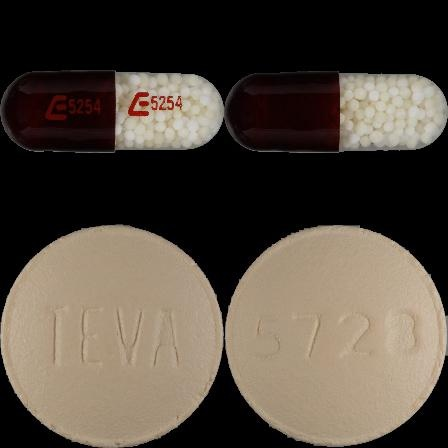12634-910: (0, 0, 224, 224)
